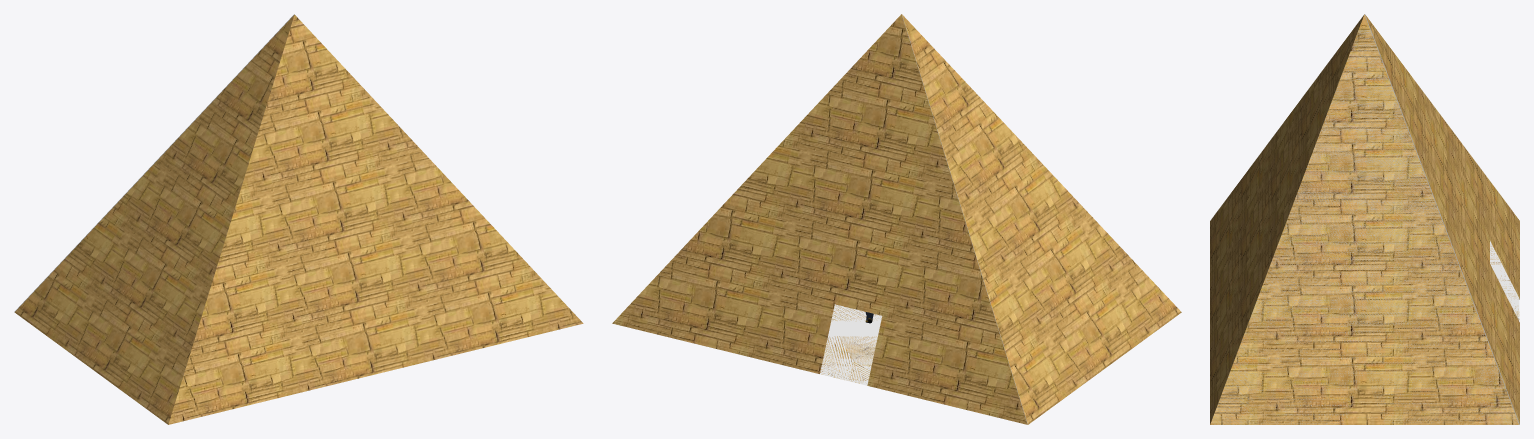
Rendered from piramide.dae.
3 renders of one model, left to right at view 1: azimuth 30°, elevation 25°; view 2: azimuth 150°, elevation 25°; view 3: azimuth 270°, elevation 25°, orthographic.
Visible parts, largest first — view 1: SketchUp (×2); view 2: SketchUp (×3); view 3: SketchUp (×5).
Part boxes in pixels (x1,y1,x2,y2): SketchUp (×2): (14,15,583,424); SketchUp (×3): (612,14,1181,424); SketchUp (×5): (1210,14,1519,424).
Size of the model in its own units: 239 by 154 by 168.
